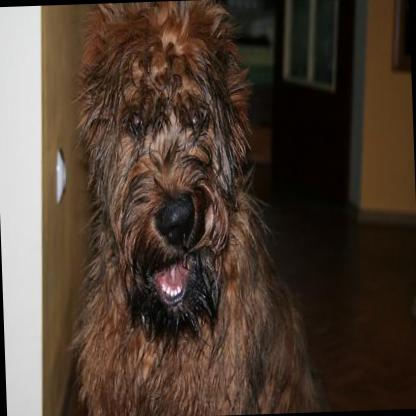briard: (57, 0, 318, 416)
